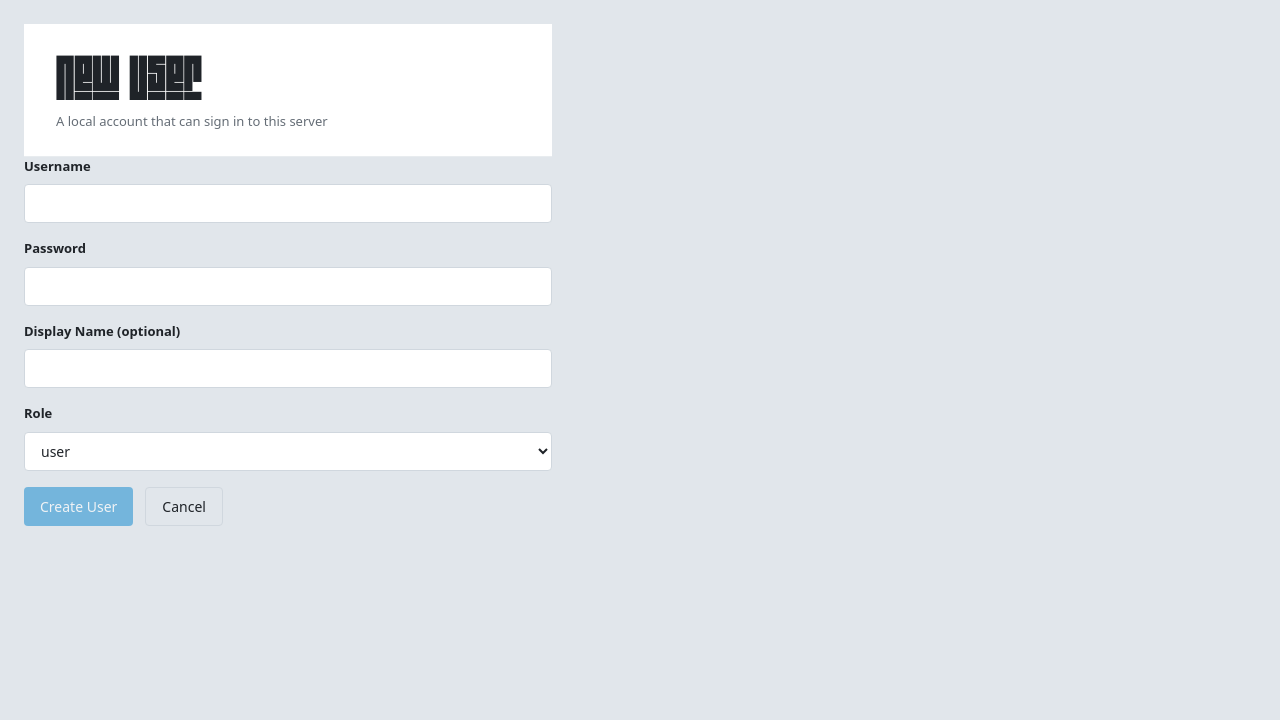
UserForm (create) › surfaces a useful message on a duplicate-username 409
The width and height of the screenshot is (1280, 720).
Type "alice" into the field labelled "Username". click: (288, 204)
box: [24, 184, 552, 223]
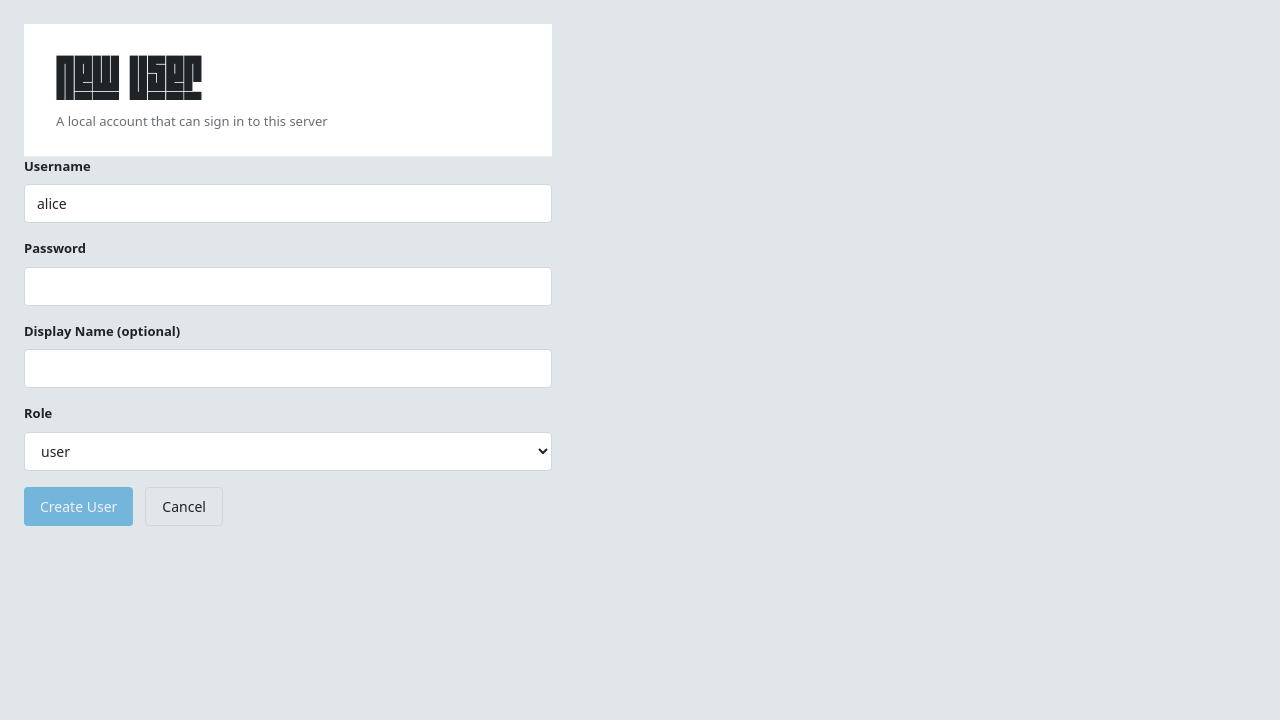
Type "hunter2!!" into the password field labelled "Password". click: (288, 286)
box: [24, 266, 552, 306]
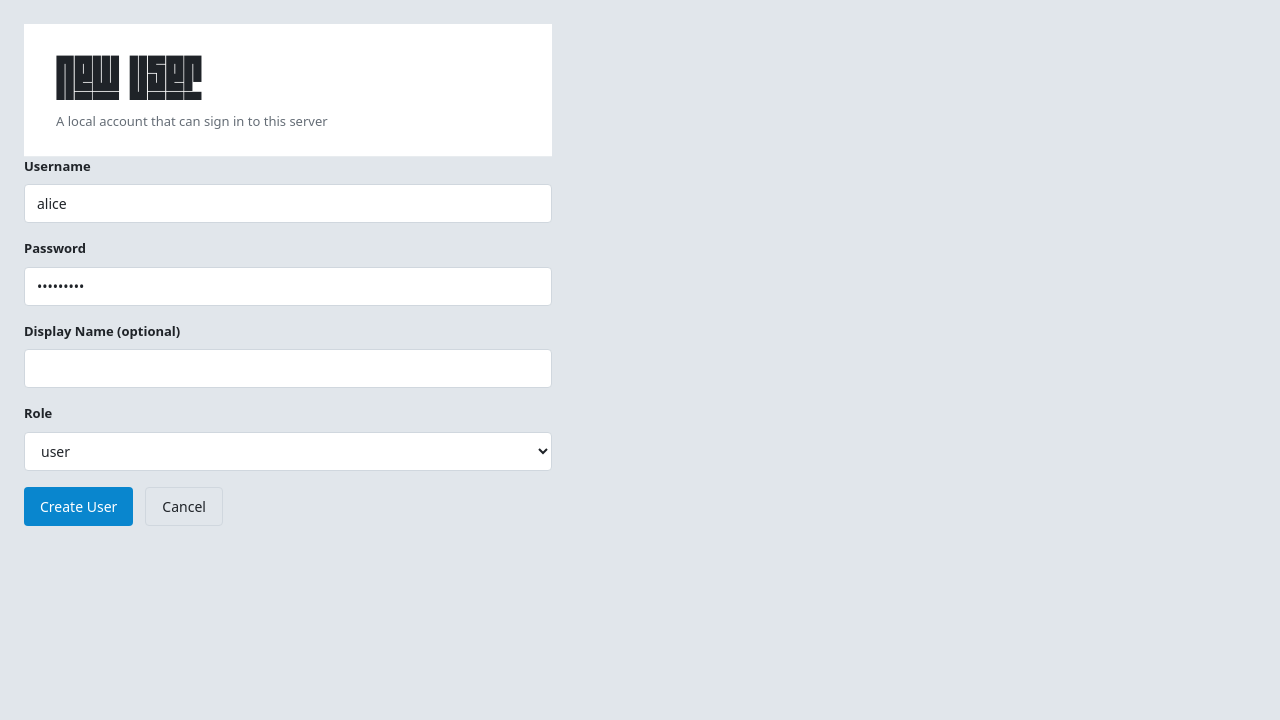
Click the button "Create User". click: click(79, 506)
box: [24, 486, 133, 526]
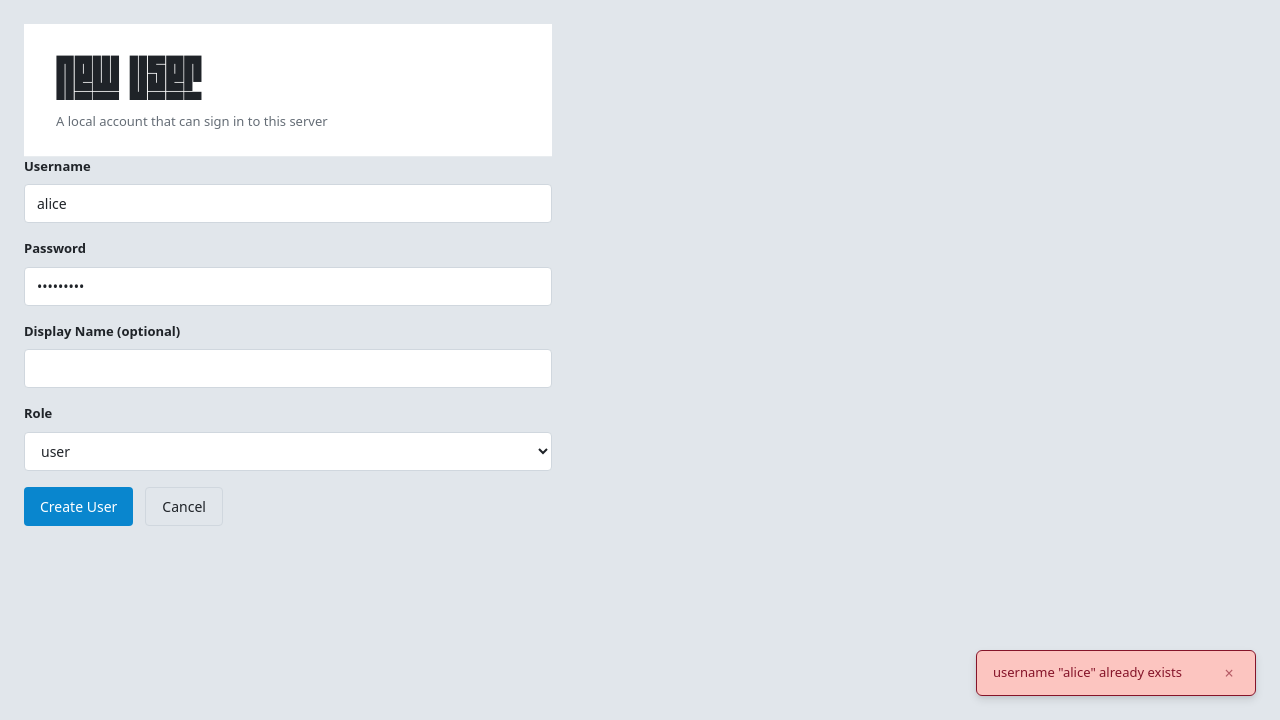
Check: the text "username \"alice\" already exists" is shown, box [993, 663, 1207, 683]
